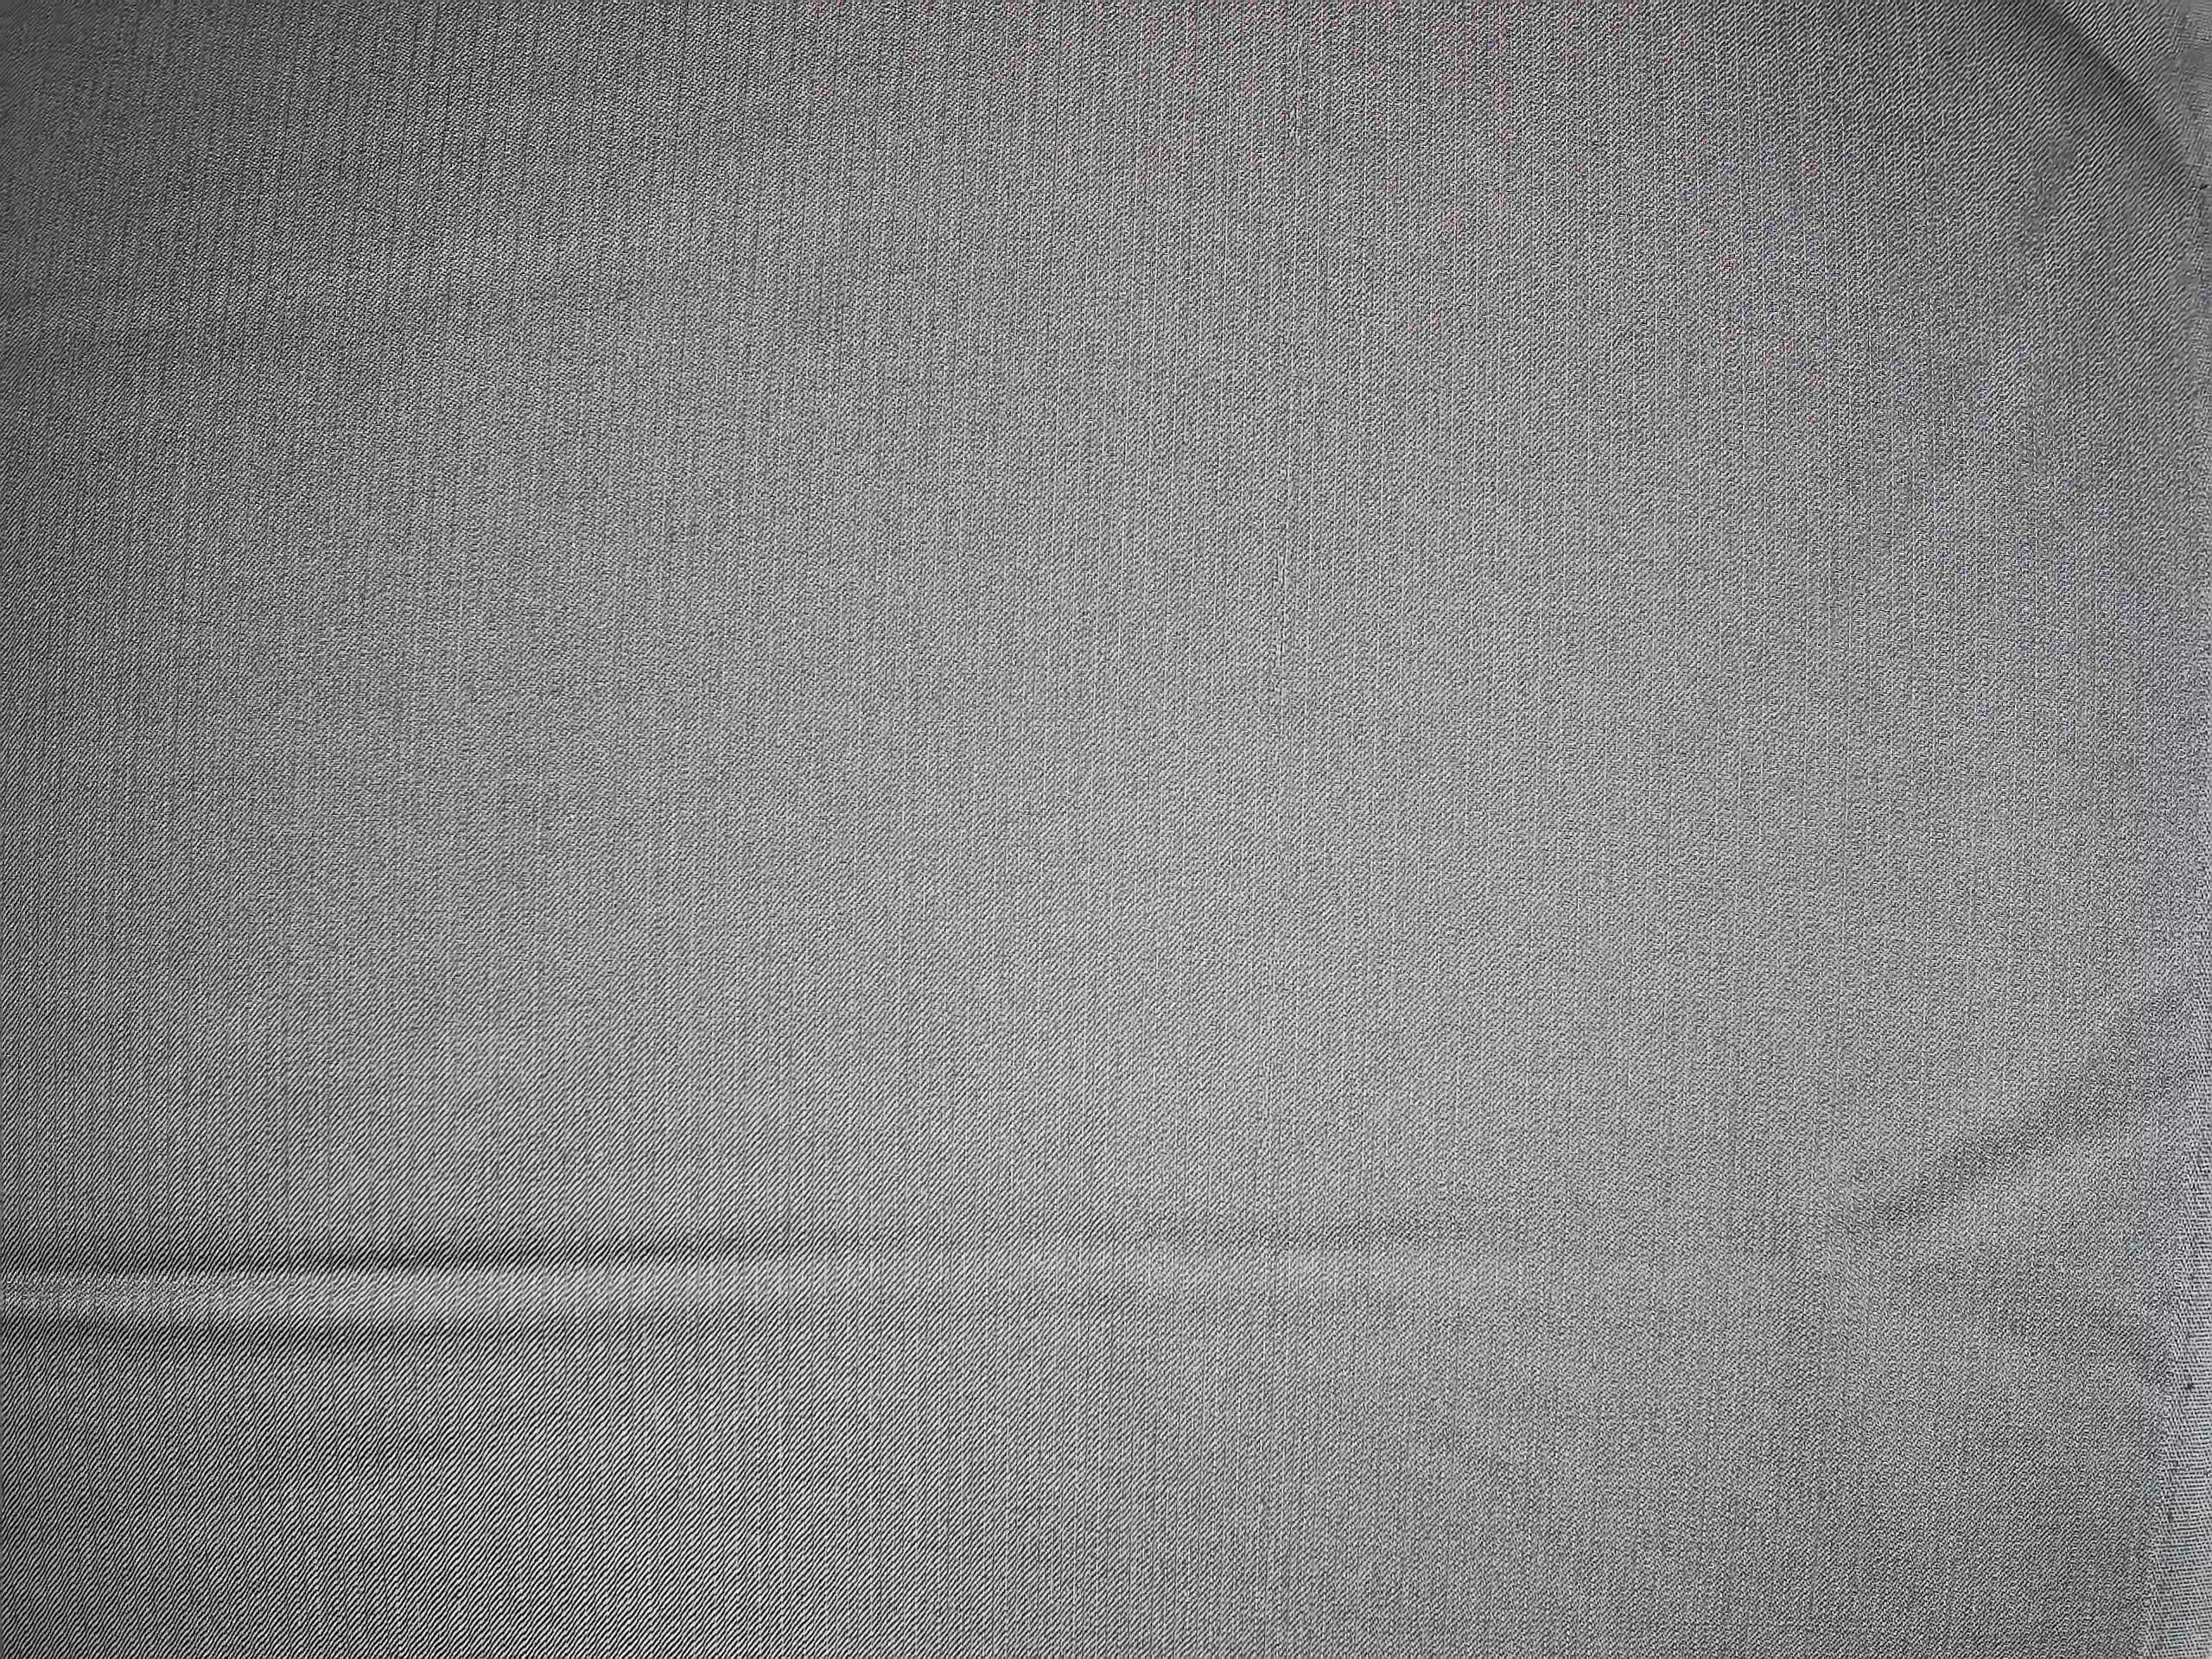jumps: (1256, 8, 1322, 747)
